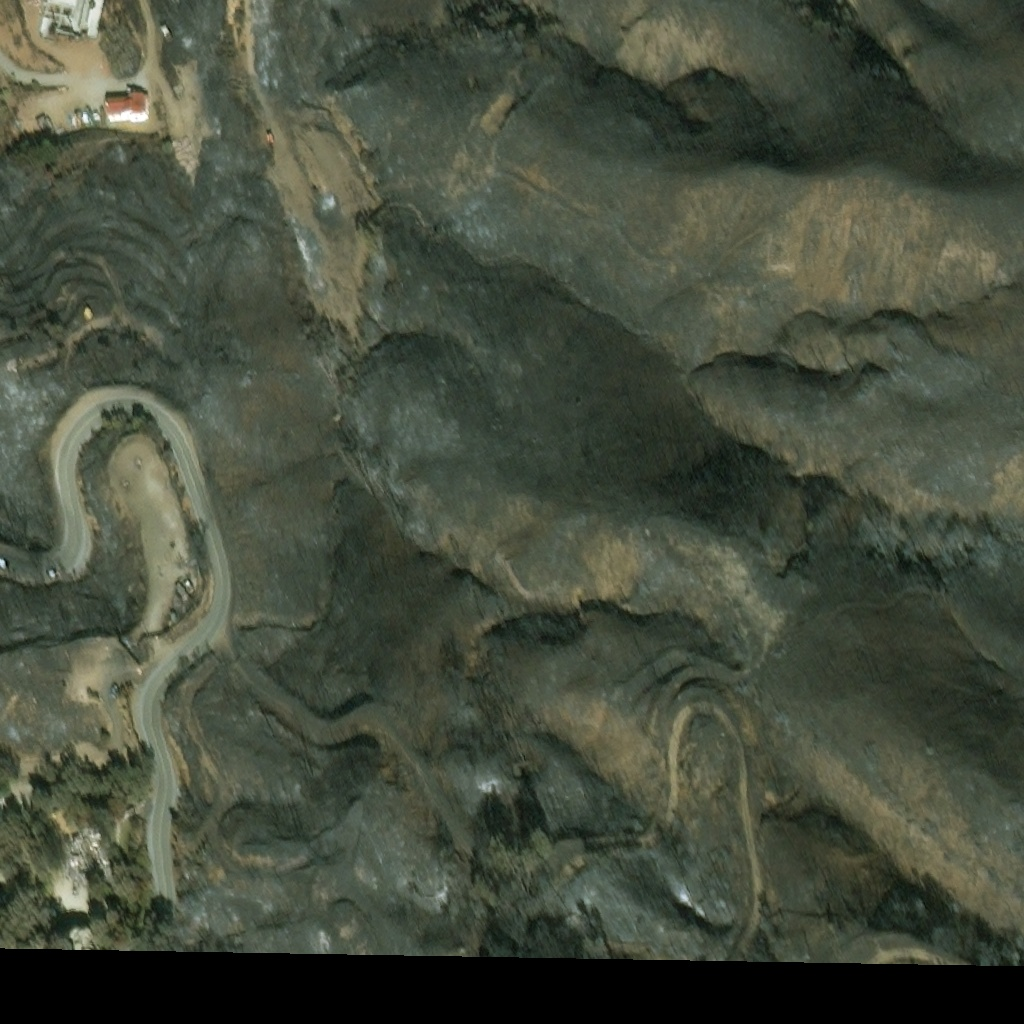0 no-damage: (37, 0, 102, 36), (105, 91, 147, 113), (128, 112, 147, 116), (106, 110, 128, 113)
2 major-damage: (180, 561, 195, 572)
3 destroyed: (67, 819, 104, 868)
4 un-classified: (95, 866, 115, 884)
